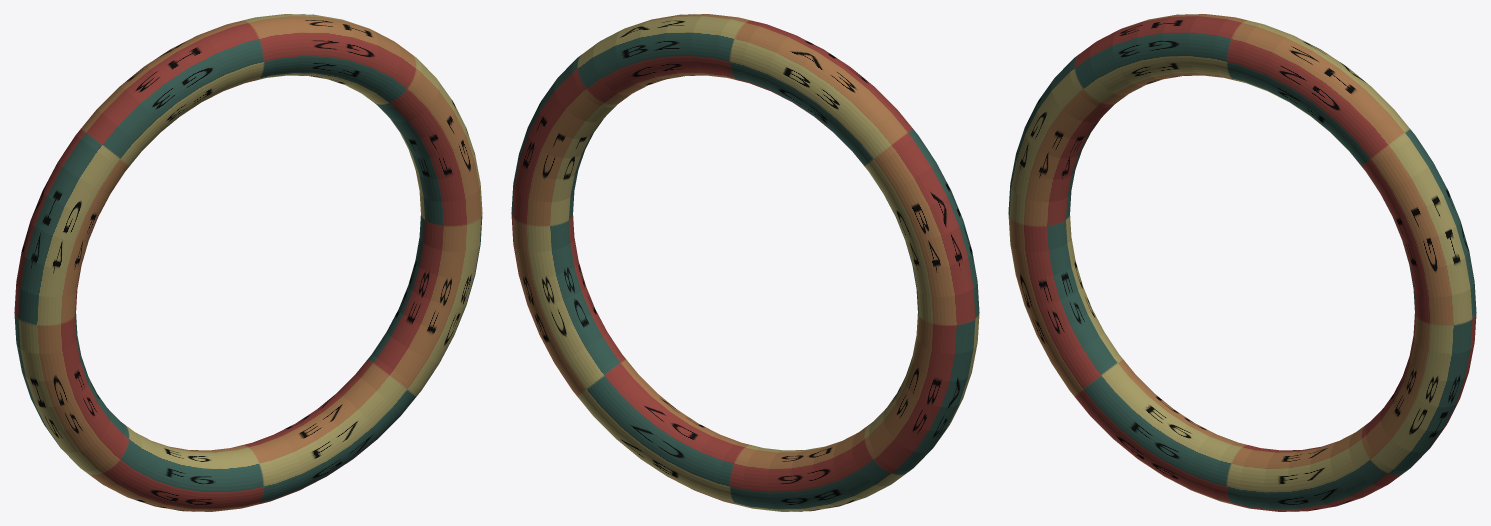
The model's file is texture_torus_R17_r3.glb.
3 views of the same model, side by side, from view 1: azimuth 30°, elevation 25°; view 2: azimuth 150°, elevation 25°; view 3: azimuth 330°, elevation 25° (orthographic).
Parts seen in each view (by area): view 1: world; view 2: world; view 3: world.
Part boxes in pixels (x1,y1,x2,y2): world: [14, 14, 482, 511]; world: [511, 14, 979, 511]; world: [1008, 14, 1476, 511].
Size of the model in its own units: 24.13 by 24.09 by 2.79.
Materials: 1 (1 with a texture image).
